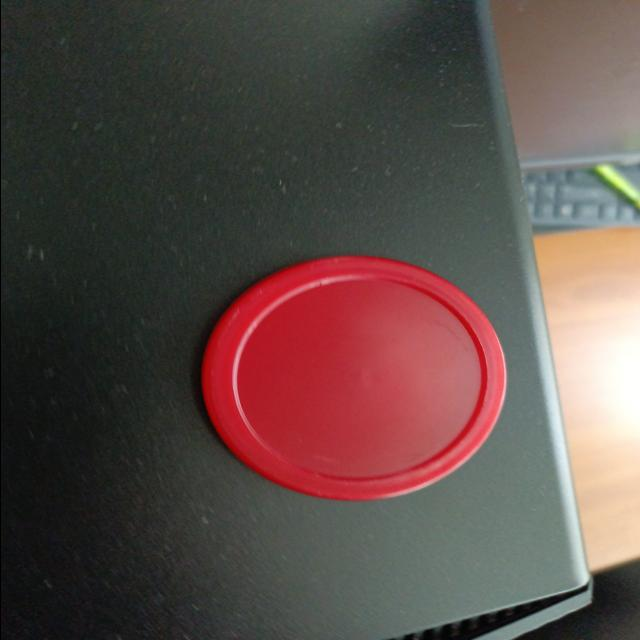chip: (200, 248, 512, 498)
